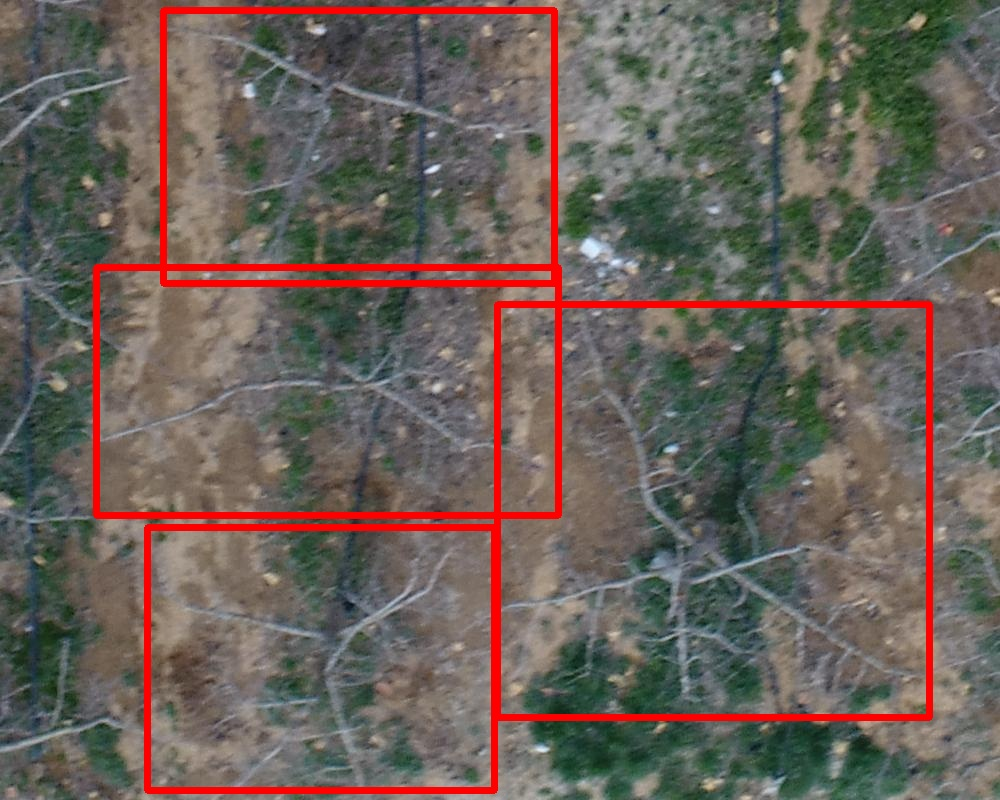apple: (497, 304, 929, 717), (96, 267, 558, 515), (163, 10, 554, 283), (147, 527, 494, 790)
